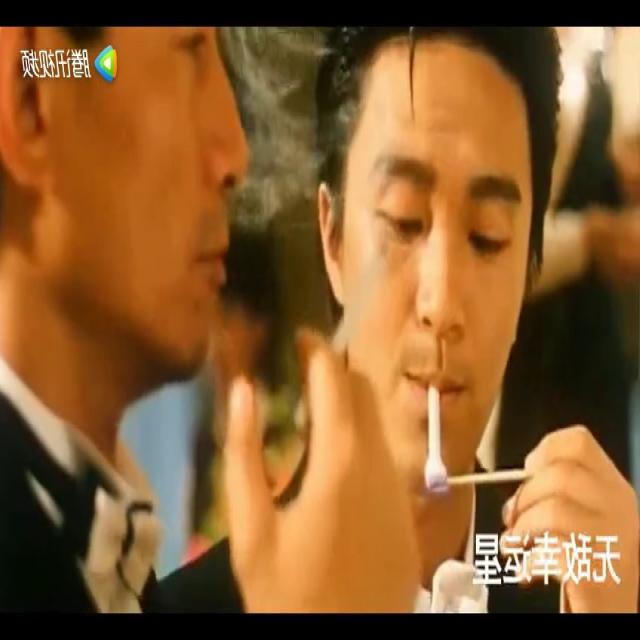smoking: (426, 387, 442, 492)
